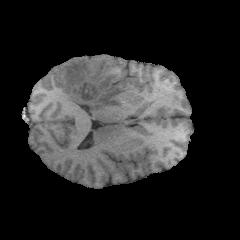glioma: (62, 58, 125, 109)
